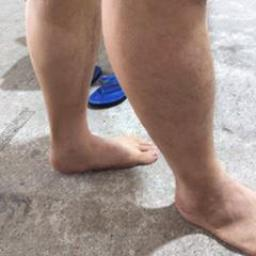Medial View -Left Foot-: (44, 118, 160, 180)
